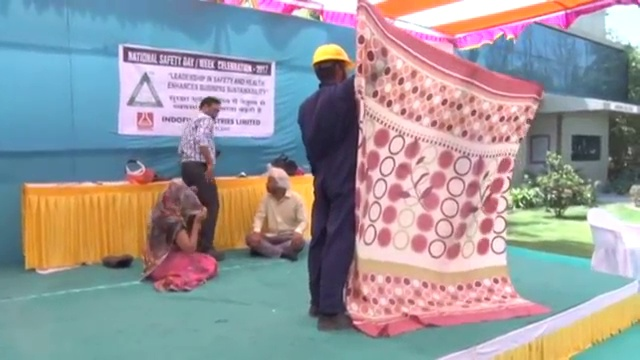helmet: (311, 42, 353, 68)
helmet_off: (159, 184, 194, 214), (264, 163, 289, 197), (195, 95, 221, 121)
helmet_on: (311, 42, 353, 81)
person: (298, 41, 361, 330), (179, 93, 227, 260), (147, 183, 217, 289), (248, 162, 306, 261)
